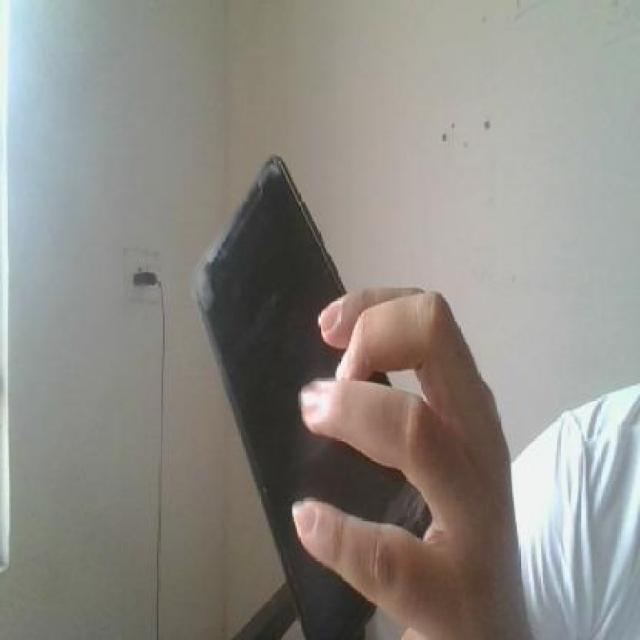Phone: (192, 152, 436, 640)
